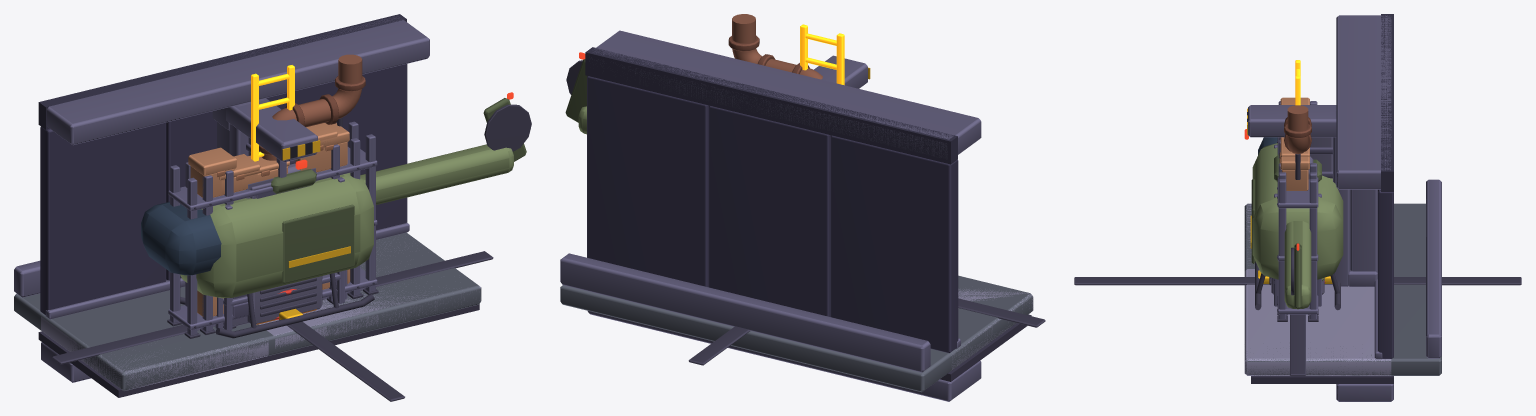
File: kit-BaasOE4a.glb
The picture shows the model from 3 angles, left to right: view 1: azimuth 30°, elevation 25°; view 2: azimuth 150°, elevation 25°; view 3: azimuth 270°, elevation 25°; orthographic projection. The views are drawn at different scales.
Visible parts, largest first — view 1: room_shell, helicopter, roof_slab, shelf_c, rotor, shelf_a, door_frame, pipes, vent, shelf_b, ladder, bunk (+2 smaller); view 2: room_shell, roof_slab, pipes, rotor, helicopter, ladder, door_frame; view 3: room_shell, roof_slab, helicopter, rotor, shelf_c, door_frame, pillar, pipes, shelf_a, door_gate.
Boxes of the visible parts, x1,y1,x2,y2 form: room_shell: [38, 14, 480, 390]; helicopter: [141, 92, 531, 338]; roof_slab: [14, 232, 481, 397]; shelf_c: [167, 121, 378, 338]; rotor: [52, 251, 493, 401]; shelf_a: [185, 123, 363, 334]; door_frame: [226, 98, 320, 169]; pipes: [259, 54, 365, 160]; vent: [247, 276, 322, 324]; shelf_b: [223, 144, 340, 328]; ladder: [251, 65, 294, 161]; bunk: [223, 177, 344, 330]; room_shell: [585, 30, 1033, 369]; roof_slab: [560, 253, 1033, 401]; pipes: [728, 14, 822, 79]; rotor: [688, 298, 1045, 365]; helicopter: [565, 52, 587, 134]; ladder: [800, 24, 844, 85]; door_frame: [814, 55, 870, 88]; room_shell: [1244, 14, 1393, 375]; roof_slab: [1244, 179, 1441, 401]; helicopter: [1250, 137, 1343, 310]; rotor: [1074, 277, 1521, 376]; shelf_c: [1277, 97, 1318, 321]; door_frame: [1244, 105, 1350, 286]; pillar: [1348, 189, 1377, 286]; pipes: [1284, 105, 1311, 179]; shelf_a: [1277, 156, 1318, 315]; door_gate: [1258, 137, 1332, 283].
Size of the model in its own units: 9.15 by 5.3 by 8.4.
